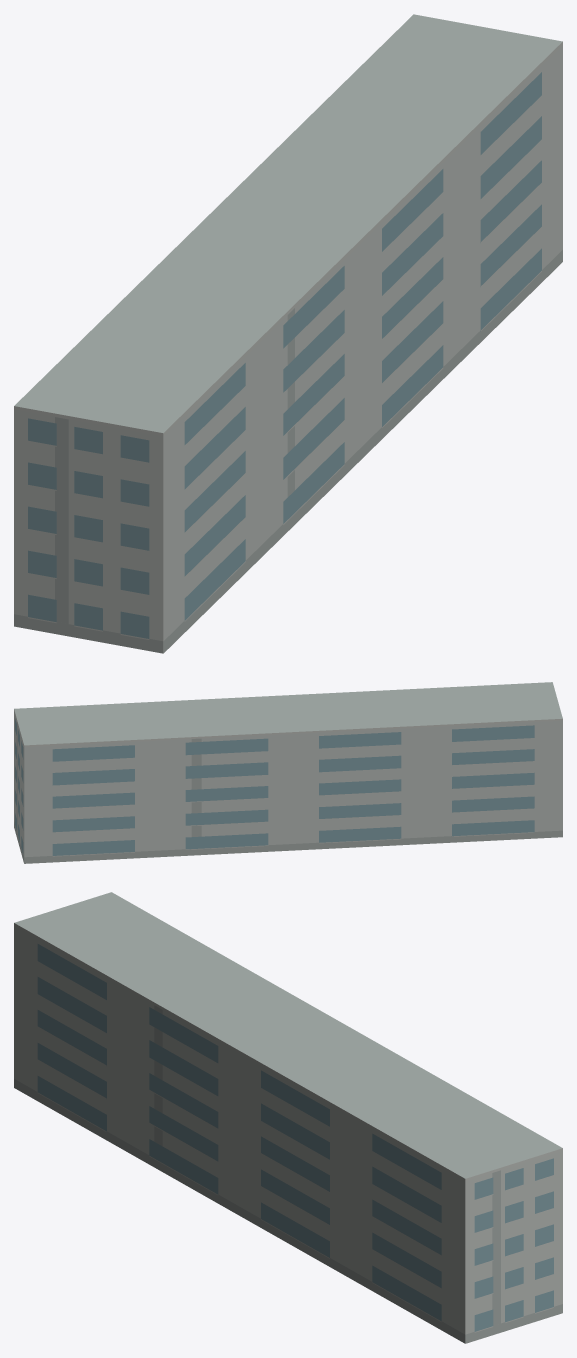
Rendered from residential-705796b7-5352-4b10-a756-663beb21bf18.glb.
3 renders of one model, top to bottom at view 1: azimuth 30°, elevation 25°; view 2: azimuth 150°, elevation 25°; view 3: azimuth 270°, elevation 25°, orthographic. The views are drawn at different scales.
Visible parts, largest first — view 1: residential-705796b7-5352-4b10-a756-663beb21bf18.tmp; view 2: residential-705796b7-5352-4b10-a756-663beb21bf18.tmp; view 3: residential-705796b7-5352-4b10-a756-663beb21bf18.tmp.
Part boxes in pixels (<box>): residential-705796b7-5352-4b10-a756-663beb21bf18.tmp: <box>14,14,562,653</box>; residential-705796b7-5352-4b10-a756-663beb21bf18.tmp: <box>14,682,562,863</box>; residential-705796b7-5352-4b10-a756-663beb21bf18.tmp: <box>14,892,562,1343</box>.
Bounding box in the file's own units: 56.85 × 15.25 × 45.98.
